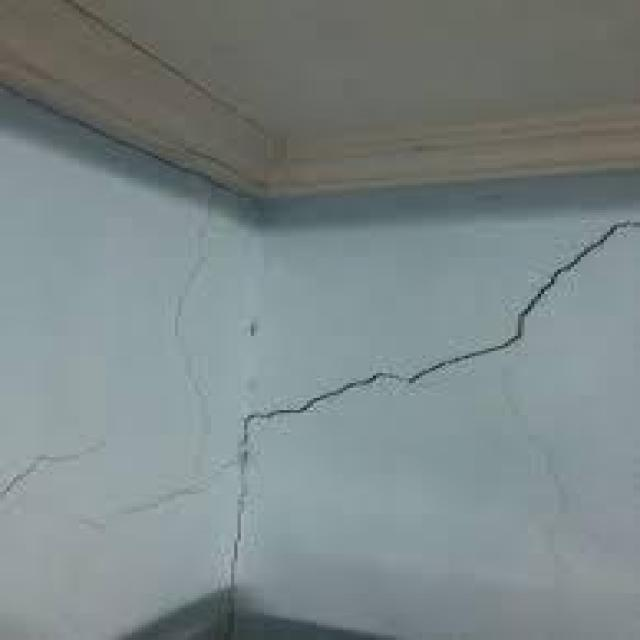damage: (102, 171, 257, 504), (465, 225, 636, 395), (225, 368, 462, 459), (0, 420, 118, 523)
